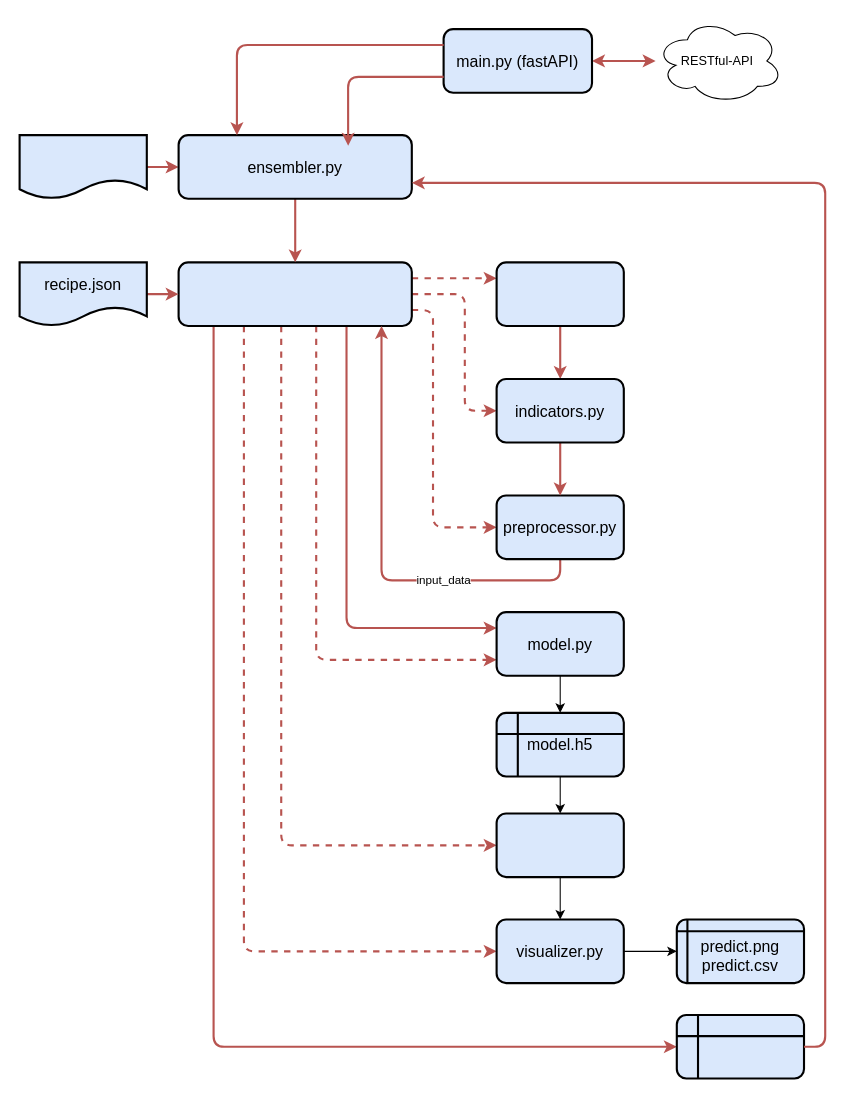
The diagram is 852 pixels wide and 1098 high, and some of its shapes have lost their labels. The shapes that lost their labels are listed below. From the top down, each one's centre as x and y in pixels, then its label:
pixel 82 166: ruleset.json
pixel 294 293: composer.py
pixel 559 293: data_aquirer.py
pixel 559 845: utilizer.py
pixel 740 1046: dump.json
